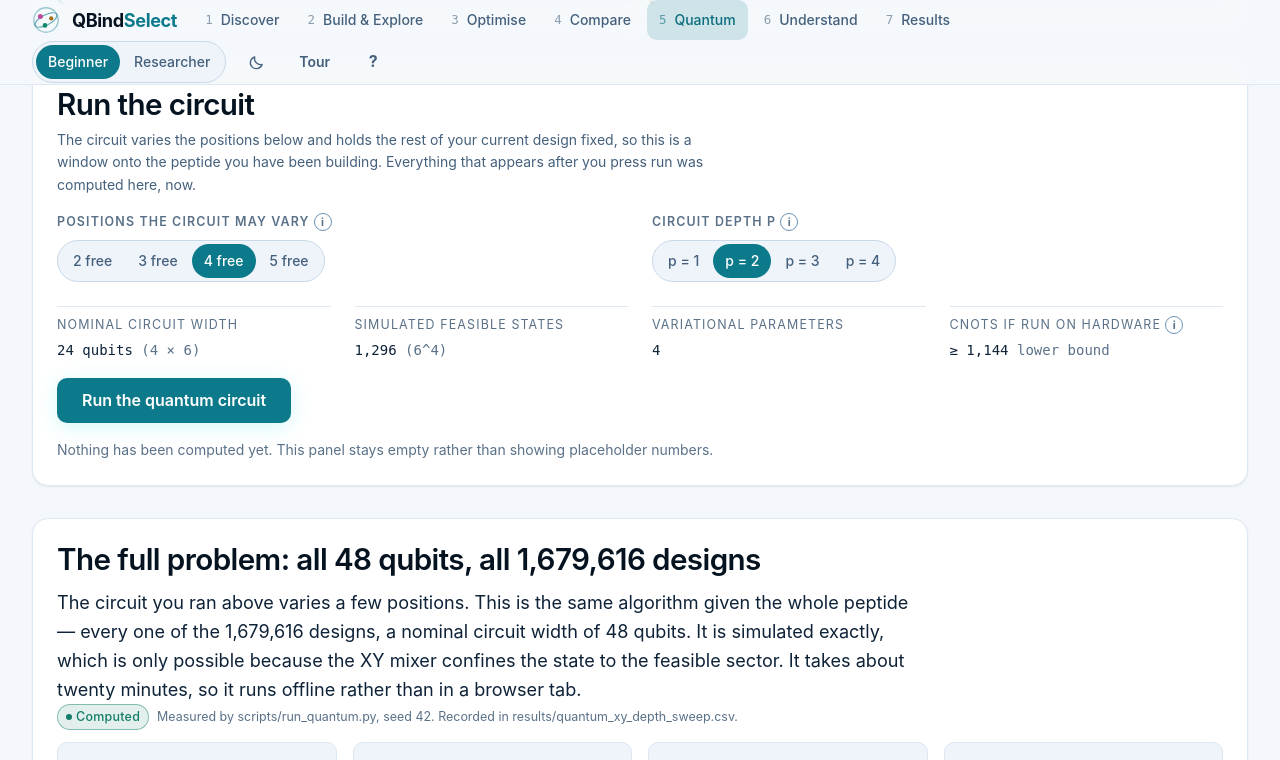
it: Quantum screen: the live run › changes its answer when the circuit width changes
The image size is (1280, 760).
(page scrolled)
Click the button "Run the quantum circuit": (174, 400) [57,378,291,423]
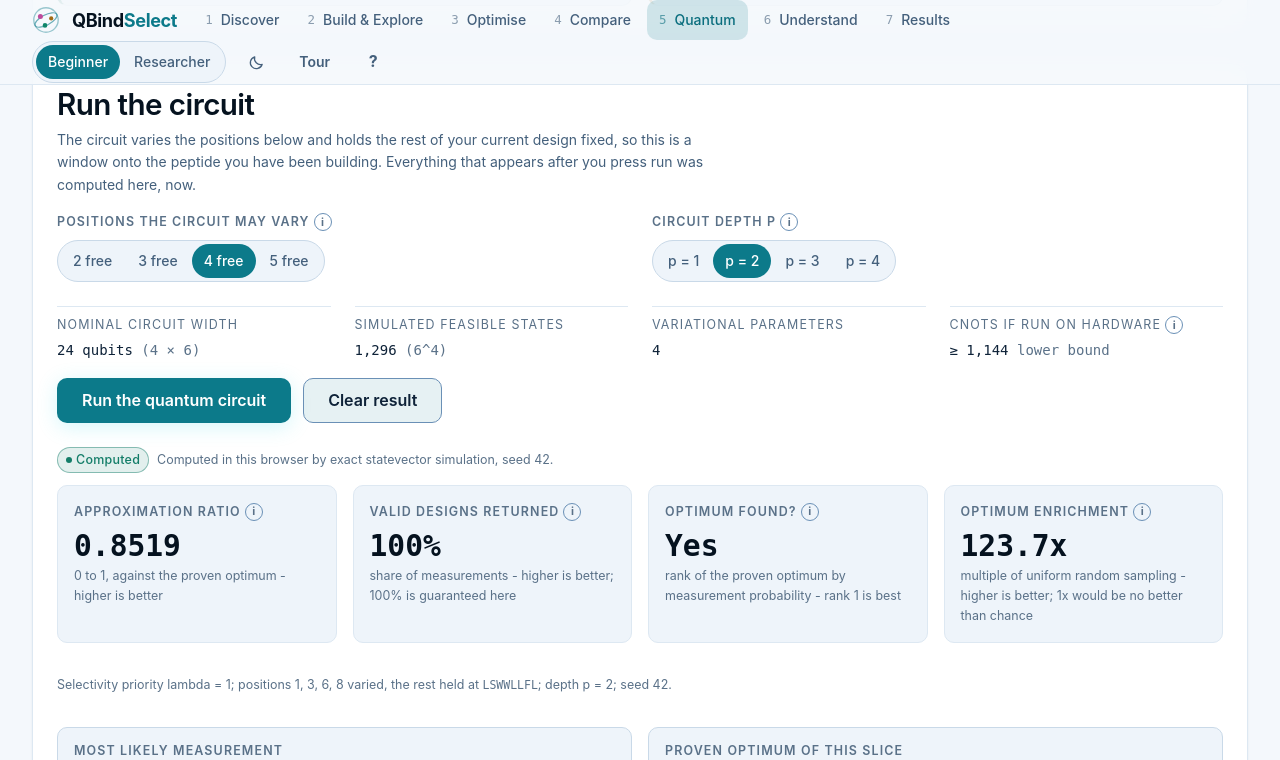
expect the button "Clear result" is shown: met, box [303,378,442,423]
Click the button "2 free": (93, 261) [61,244,124,278]
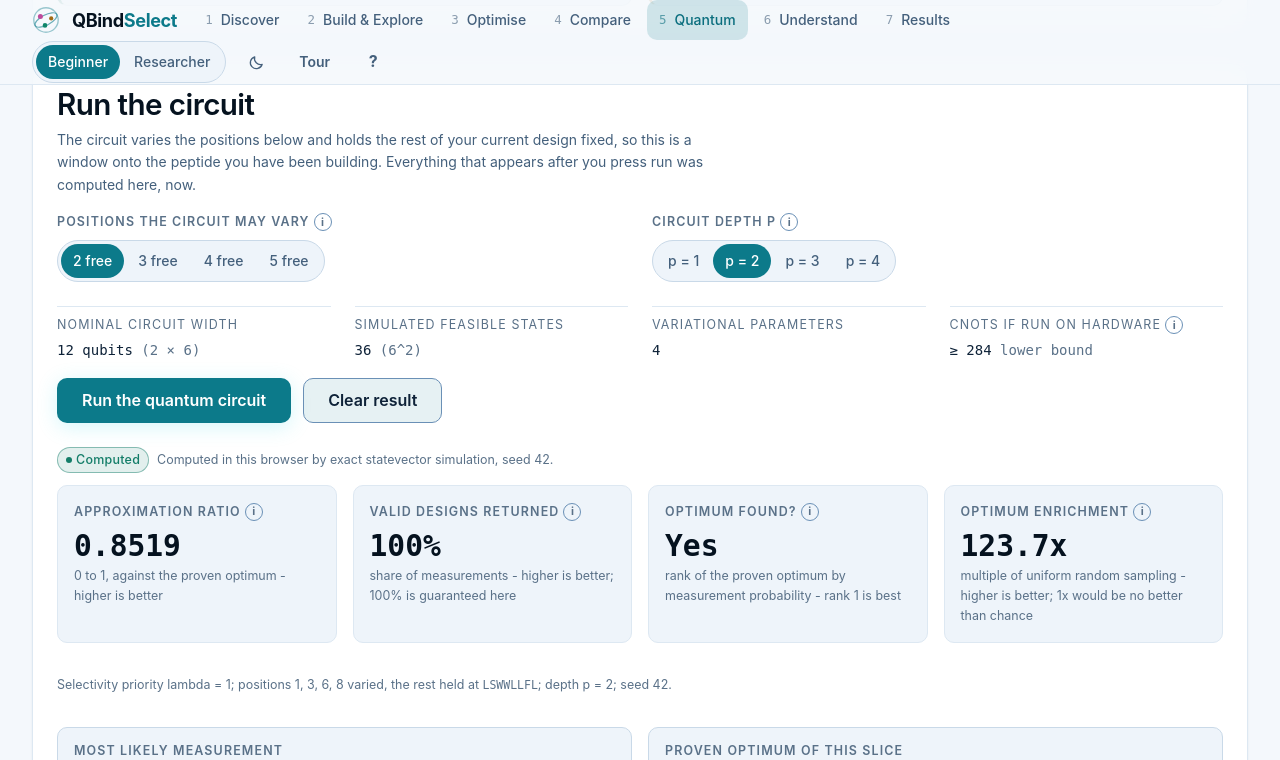
Click the button "Run the quantum circuit": (174, 400) [57,378,291,423]
(page scrolled)
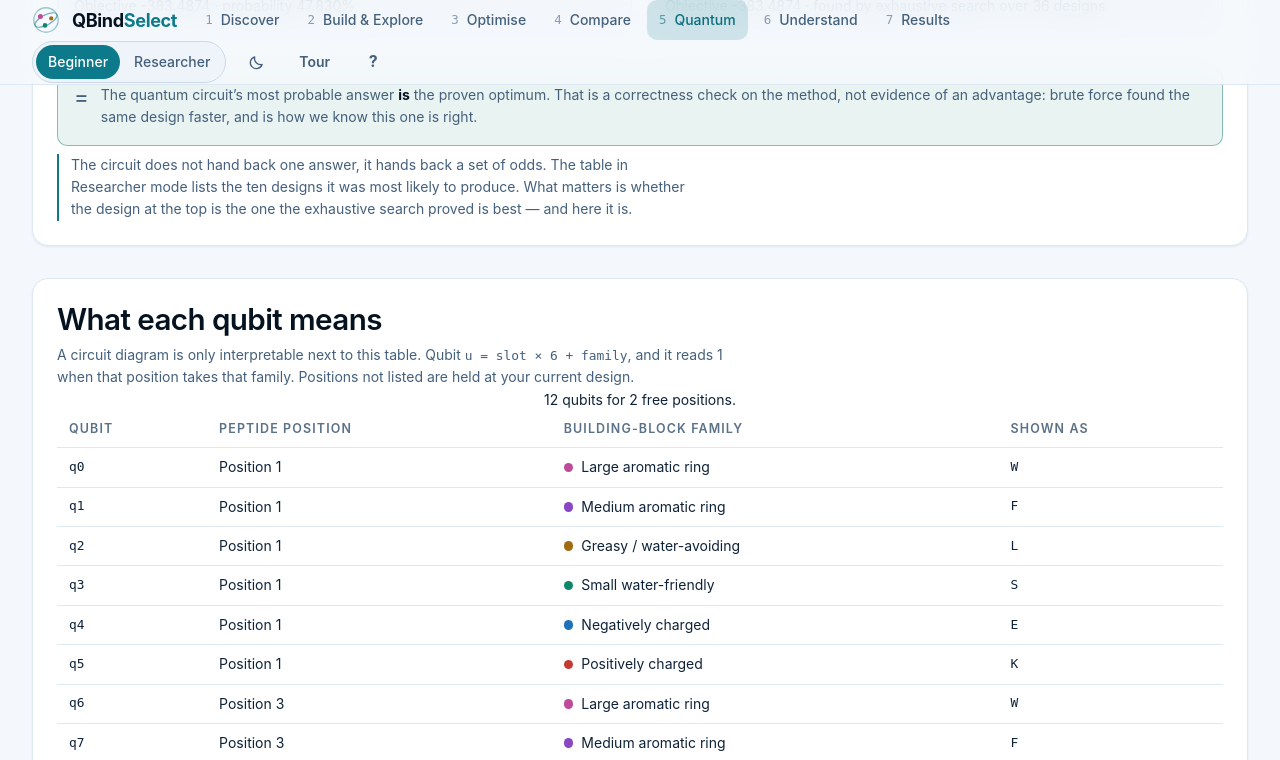
expect the text "12 qubits for 2 free positions." is shown: met, box [544,391,736,408]
